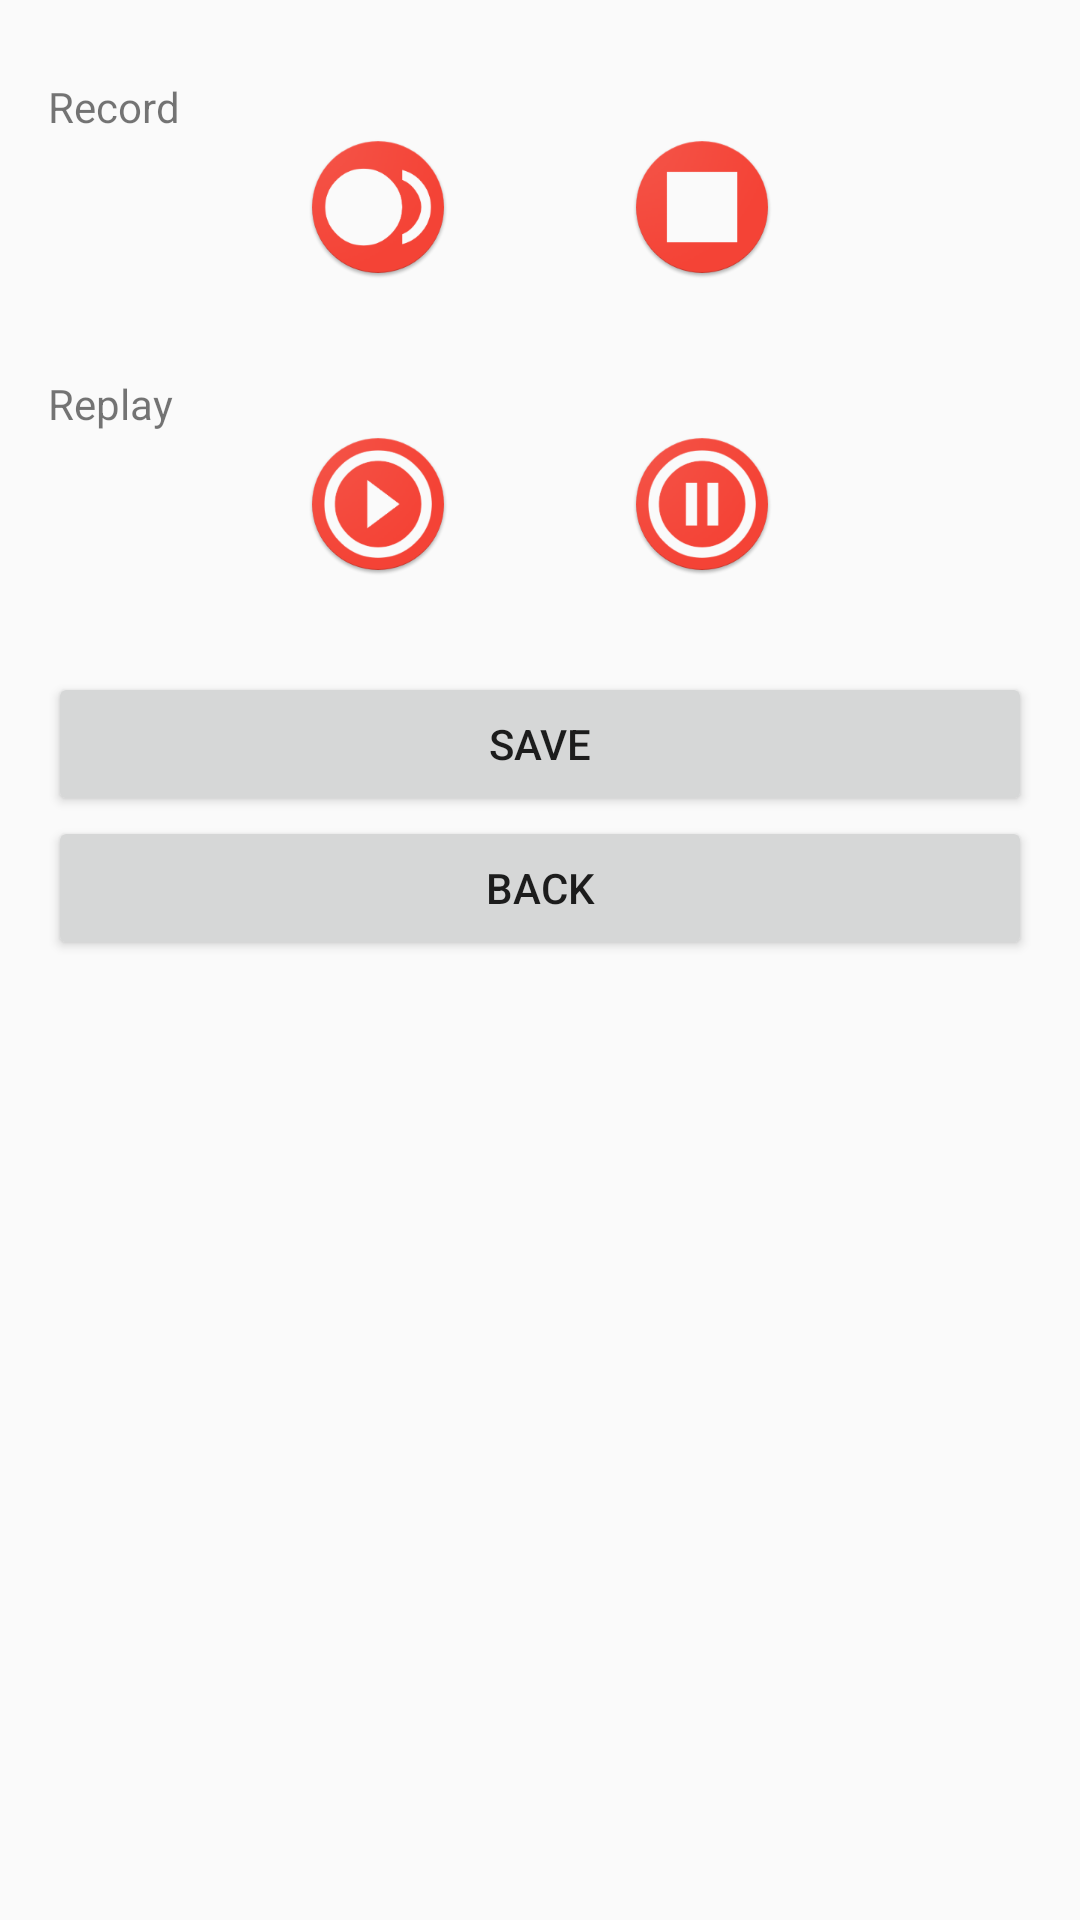

Named icons in this screenshot (1080 × 1920) and their bounding boxes, (x1, y1, x2, y2):
pause audio: (635, 438, 769, 573)
play audio: (311, 438, 445, 573)
rec audio: (311, 141, 445, 276)
stop audio: (635, 141, 769, 276)
